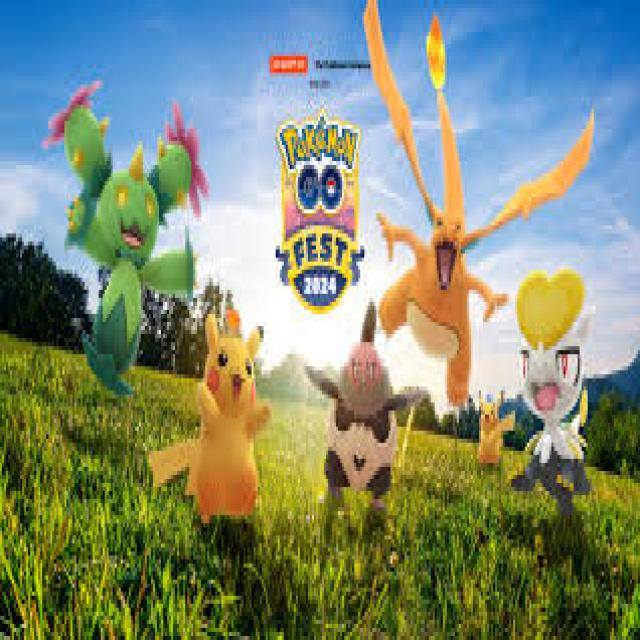Charizard: (378, 168, 501, 399)
Pikachu: (193, 328, 263, 519), (476, 392, 504, 472)
